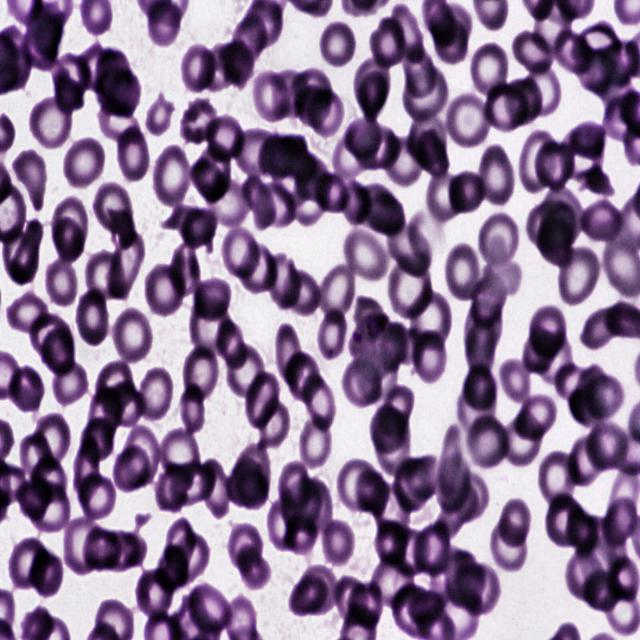red blood cell: (525, 200, 577, 267), (575, 522, 625, 591), (555, 242, 602, 308), (518, 129, 563, 195), (151, 142, 195, 209), (476, 208, 522, 272), (407, 287, 451, 353), (498, 407, 544, 468), (444, 93, 494, 149), (352, 56, 393, 124), (474, 142, 516, 208), (537, 447, 581, 510), (190, 140, 233, 204), (110, 306, 154, 368), (541, 188, 585, 250), (224, 340, 268, 401), (107, 230, 148, 295), (466, 413, 511, 472), (132, 364, 176, 424), (388, 258, 432, 318), (189, 296, 233, 356), (343, 229, 391, 283), (390, 583, 438, 637), (402, 66, 448, 122), (62, 134, 106, 192), (357, 183, 405, 236), (121, 424, 162, 486), (180, 342, 220, 405), (444, 243, 486, 302), (570, 362, 608, 427), (291, 68, 332, 128), (469, 40, 509, 101), (236, 238, 278, 296), (436, 482, 478, 540), (156, 426, 201, 480), (27, 96, 71, 151), (546, 491, 587, 550), (463, 295, 502, 357), (145, 260, 186, 318), (6, 291, 54, 340), (370, 554, 414, 607), (444, 550, 484, 608), (74, 286, 112, 347), (376, 411, 412, 475), (332, 130, 379, 179), (186, 582, 232, 632), (206, 177, 252, 227), (454, 564, 500, 614), (91, 179, 132, 235), (28, 480, 72, 532), (391, 455, 431, 512), (252, 66, 292, 123), (319, 259, 355, 322), (85, 247, 127, 301), (243, 368, 280, 429), (388, 223, 430, 276), (13, 146, 47, 211), (512, 28, 556, 78), (412, 523, 451, 579), (222, 223, 260, 280), (134, 566, 174, 620), (521, 64, 561, 118), (232, 130, 280, 175), (32, 411, 71, 466), (565, 547, 604, 602), (180, 97, 222, 148), (179, 43, 221, 94), (2, 228, 40, 284), (568, 434, 606, 490), (263, 250, 301, 306), (63, 517, 99, 576), (409, 115, 449, 168), (383, 134, 423, 187), (282, 477, 322, 530), (258, 133, 306, 177), (189, 274, 231, 324), (100, 66, 142, 116), (338, 460, 378, 512), (292, 172, 332, 224), (390, 2, 424, 63), (514, 393, 558, 440), (587, 424, 630, 472), (319, 17, 357, 71), (489, 520, 527, 574), (298, 478, 334, 535), (447, 167, 488, 217), (4, 362, 44, 413), (486, 81, 526, 132), (428, 172, 467, 224), (401, 40, 437, 96), (240, 176, 276, 232), (530, 303, 568, 356), (96, 362, 134, 415), (465, 316, 495, 383), (51, 50, 92, 99), (341, 358, 381, 408), (536, 332, 576, 382), (225, 520, 264, 571), (282, 267, 321, 318), (431, 15, 470, 66), (44, 253, 80, 308), (412, 330, 448, 385), (234, 444, 270, 499), (352, 128, 398, 171), (170, 460, 216, 503), (278, 460, 312, 518), (536, 143, 577, 191), (116, 126, 151, 182), (112, 443, 152, 492), (199, 457, 230, 520), (9, 538, 48, 588), (171, 238, 201, 303), (254, 182, 296, 228), (200, 44, 240, 92), (73, 435, 102, 501), (370, 402, 406, 455), (471, 275, 507, 328), (302, 373, 336, 429), (452, 472, 490, 522), (370, 14, 405, 68), (462, 363, 497, 417), (53, 195, 90, 246), (30, 309, 70, 356), (317, 518, 355, 567), (171, 532, 209, 581), (317, 303, 348, 363), (79, 42, 116, 92), (102, 380, 144, 424), (52, 360, 92, 406), (76, 471, 114, 519), (437, 453, 469, 510), (505, 77, 543, 125), (219, 37, 254, 89), (307, 88, 344, 137), (580, 306, 622, 349), (99, 100, 143, 141), (97, 46, 133, 96), (404, 453, 442, 500), (302, 566, 339, 614), (268, 496, 298, 555), (286, 352, 322, 401), (272, 71, 308, 120), (568, 120, 609, 163), (390, 529, 429, 574), (587, 373, 625, 419), (84, 524, 122, 570), (274, 323, 303, 383), (287, 576, 328, 618), (433, 3, 473, 46), (342, 117, 382, 160), (298, 416, 331, 468), (295, 155, 332, 201), (232, 14, 268, 61), (580, 201, 622, 241), (227, 460, 262, 508), (584, 569, 623, 612), (349, 582, 383, 631), (154, 544, 188, 593), (16, 474, 50, 523), (380, 387, 414, 436), (216, 316, 248, 368), (40, 330, 76, 376), (521, 327, 556, 374), (76, 419, 115, 461), (554, 31, 592, 74), (204, 115, 241, 159), (166, 518, 196, 572), (155, 463, 188, 512), (336, 576, 368, 626), (604, 495, 636, 545), (238, 544, 272, 591), (30, 551, 64, 598), (52, 217, 85, 265), (18, 435, 54, 479), (356, 469, 389, 517), (147, 1, 182, 46), (32, 458, 66, 504), (554, 361, 592, 402), (257, 400, 290, 447), (284, 512, 318, 557), (179, 207, 218, 246), (104, 532, 144, 570), (567, 508, 598, 557), (374, 520, 408, 564), (499, 359, 532, 404), (144, 92, 176, 136), (500, 500, 530, 546), (407, 590, 447, 624), (178, 384, 204, 434), (316, 174, 348, 214), (341, 182, 371, 224), (610, 557, 638, 601)
trophozoite: (350, 314, 403, 378)
